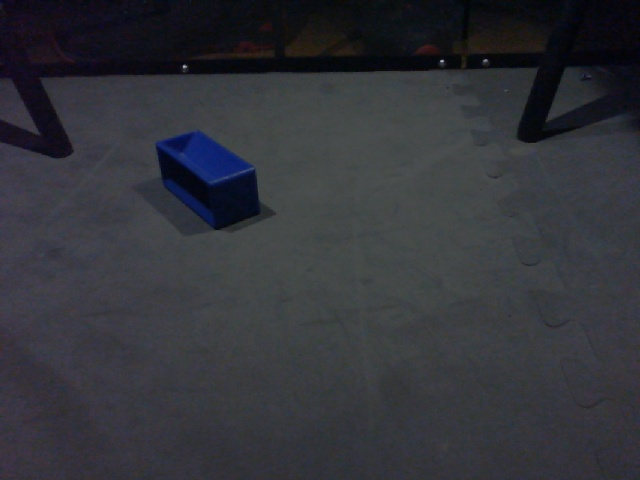BlueSample: (155, 125, 264, 237)
